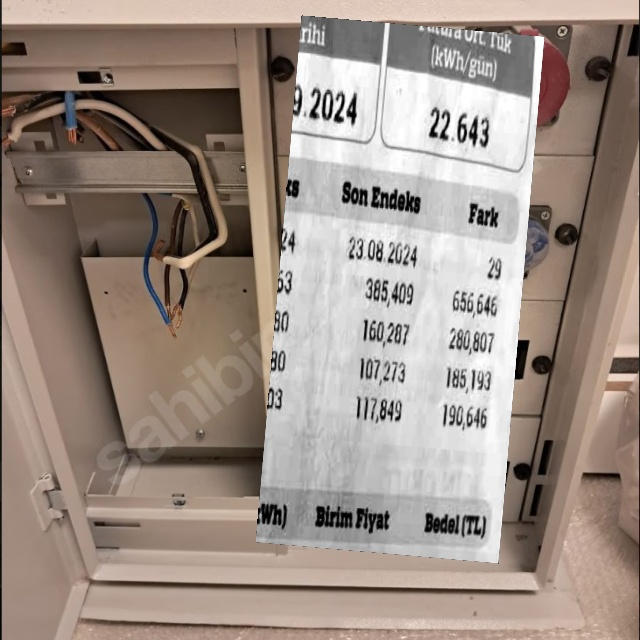electricity-bill: (256, 14, 544, 563)
